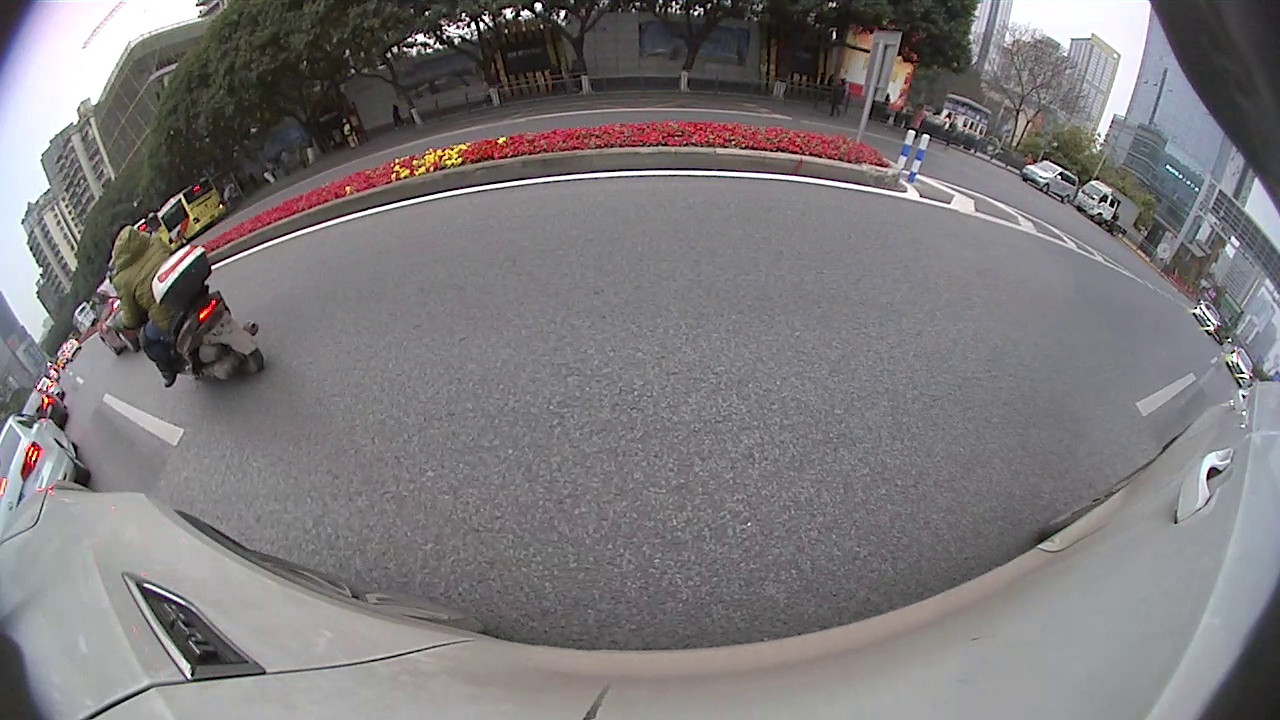bus: (156, 177, 228, 241)
car: (0, 414, 92, 514), (92, 277, 163, 355), (1022, 157, 1079, 203), (20, 387, 66, 427)
person: (913, 102, 922, 137)
rider: (105, 216, 270, 387)
truck: (1076, 177, 1142, 238)
